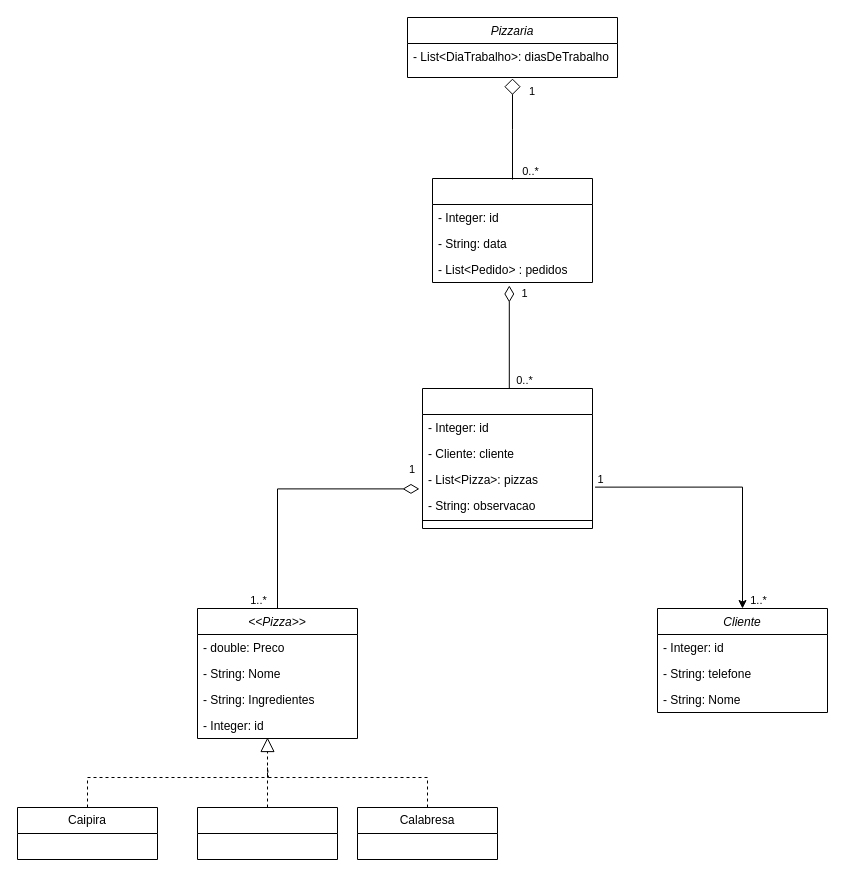
Some shapes in this 845 by 877 pixel diagram are drawn without their labels. Here are the shapes that lost their labels. From the top down, the box of each, then its label:
(432, 178, 592, 282): DiaTrabalho
(422, 388, 592, 528): Pedido
(196, 806, 338, 860): FrangoComCatupiry
